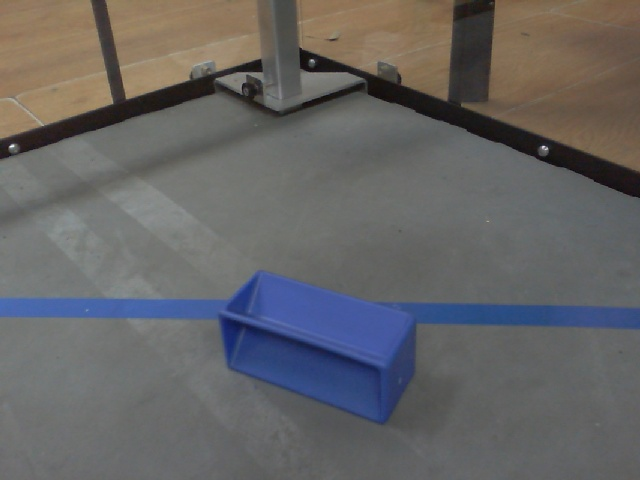BlueSample: (214, 267, 419, 430)
